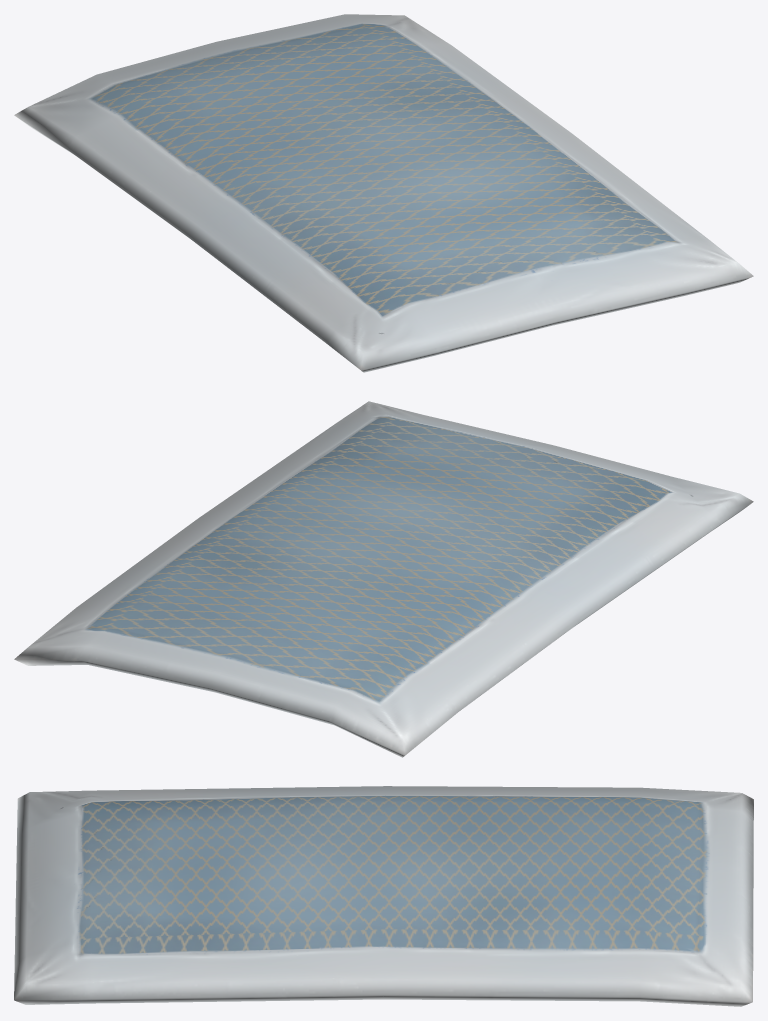
The model's file is jov_fton01b1.fbx.
The picture shows the model from 3 angles, top to bottom: view 1: azimuth 30°, elevation 25°; view 2: azimuth 150°, elevation 25°; view 3: azimuth 270°, elevation 25°; orthographic projection. The views are drawn at different scales.
Parts seen in each view (by area): view 1: jov_fton01b1; view 2: jov_fton01b1; view 3: jov_fton01b1.
Part boxes in pixels (x1,y1,x2,y2): jov_fton01b1: (14,14,753,372); jov_fton01b1: (14,401,753,757); jov_fton01b1: (14,786,753,1006).
Bounding box in the file's own units: 156 × 17.88 × 239.
